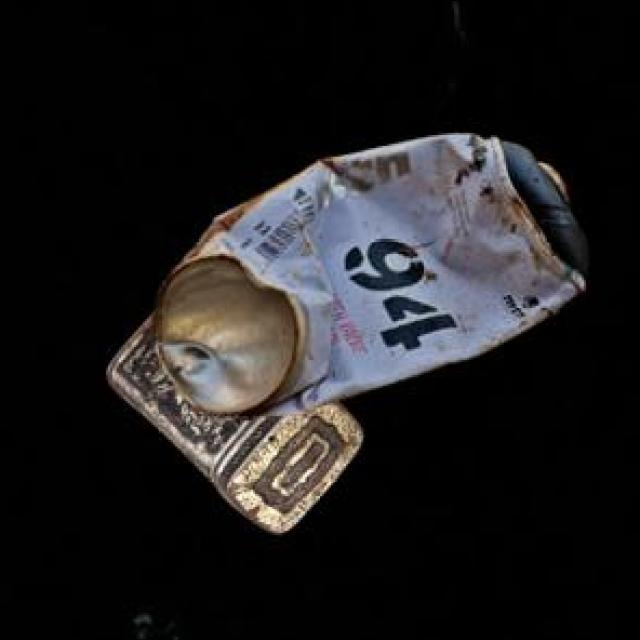logam: (157, 131, 591, 412), (111, 310, 366, 529)
